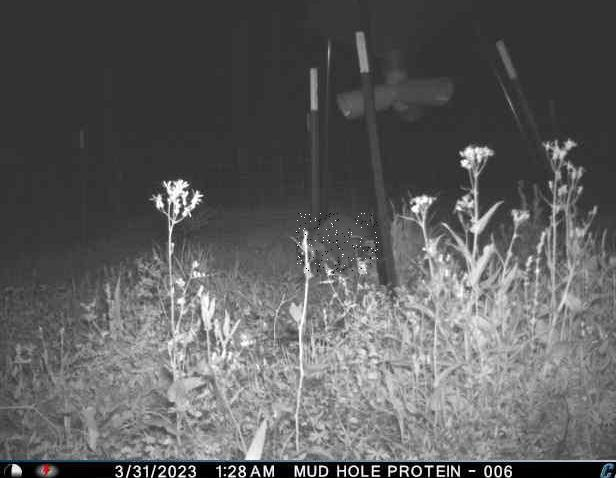Raccoon: (297, 214, 380, 274)
